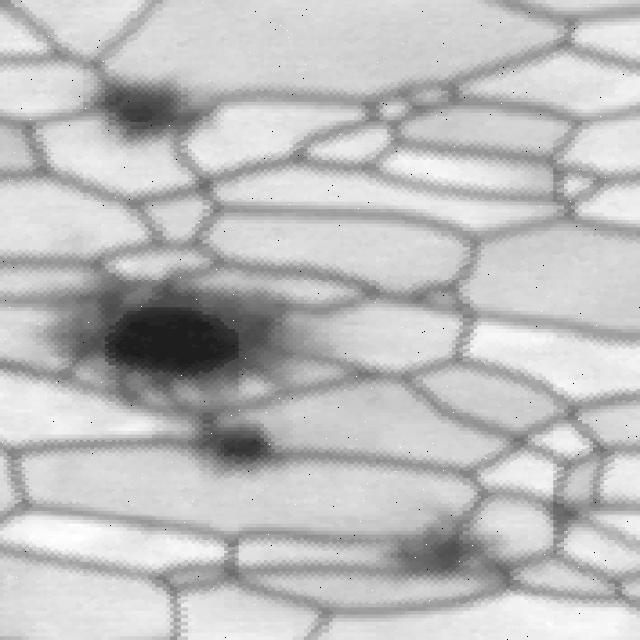good_void: (3, 277, 371, 424), (360, 519, 513, 592), (148, 420, 314, 487), (62, 77, 203, 150)
